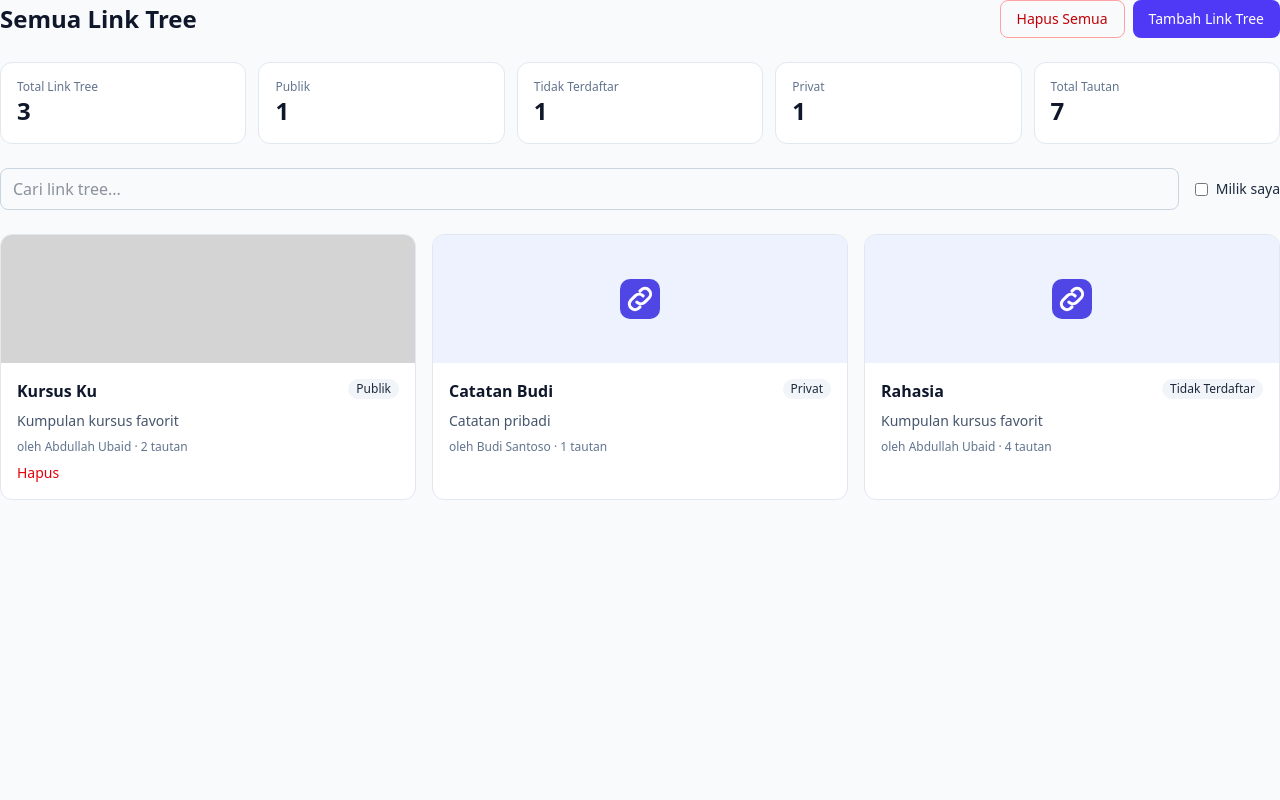
Test: HomePage › error tambah hanya tampil di modal, dan modal dapat ditutup
The image size is (1280, 800).
Expected: the link "Catatan Budi" is shown, [449,379,553,403]
Step 1. Click the button "Tambah Link Tree" → (1206, 19), box [1132,0,1279,38]
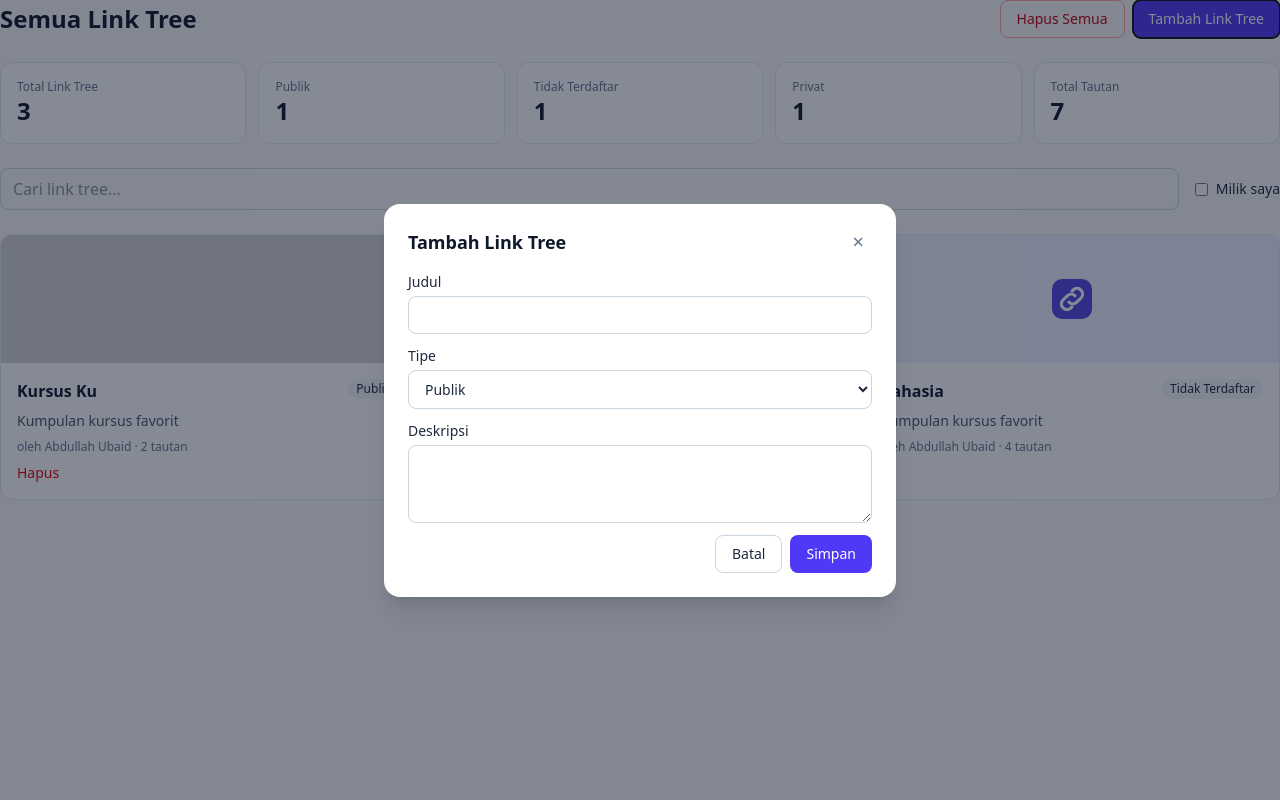
Step 2. Type "Baru" into the field labelled "Judul" → (640, 314), box [408,296,872,334]
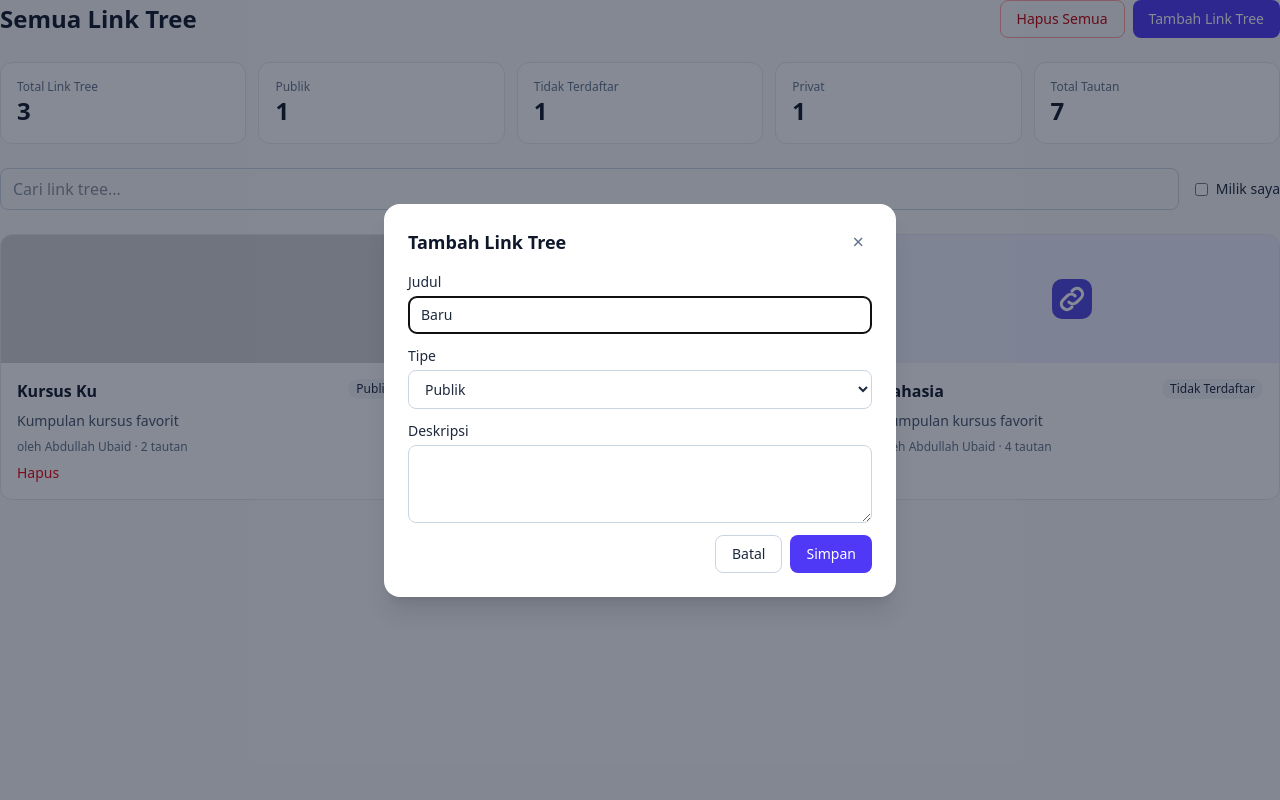
Step 3. Type "Deskripsi baru" into the text box labelled "Deskripsi" → (640, 484), box [408,444,872,522]
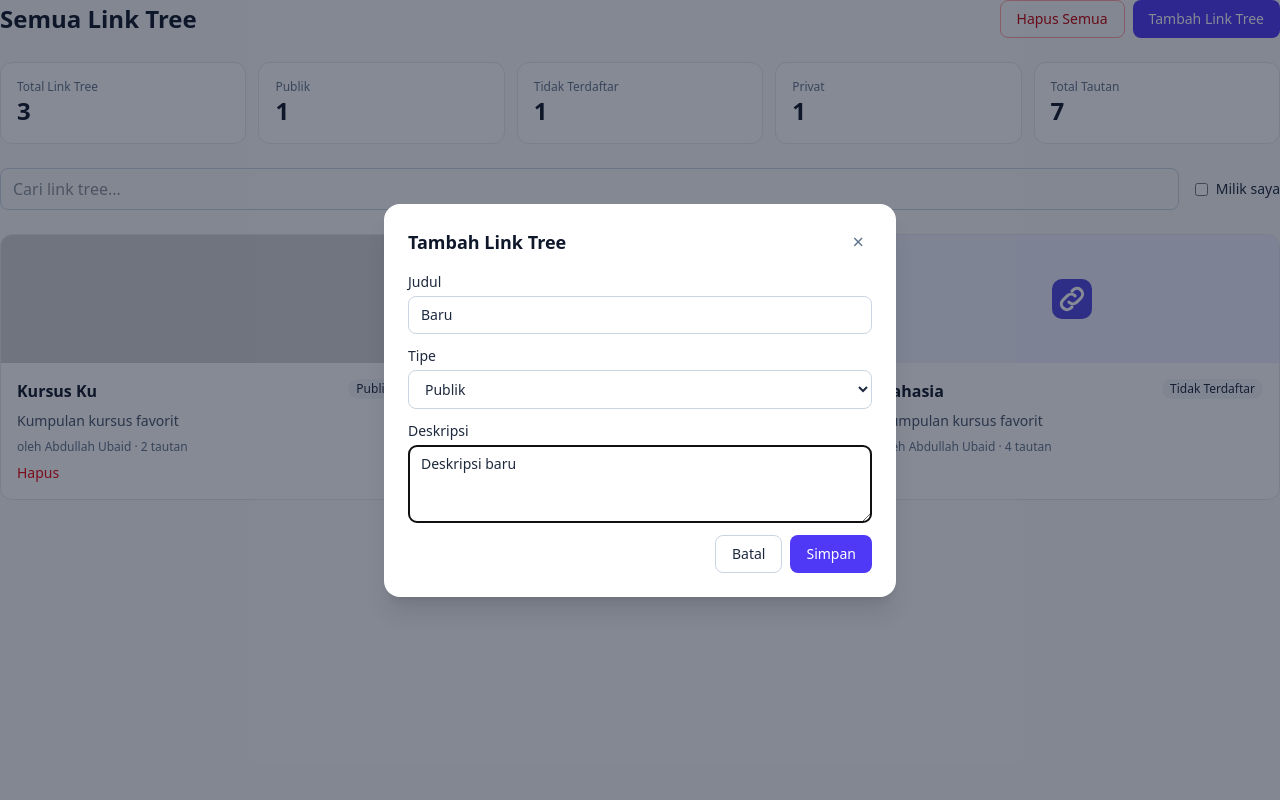
Step 4. Click the button "Simpan" → (831, 554), box [790,534,872,572]
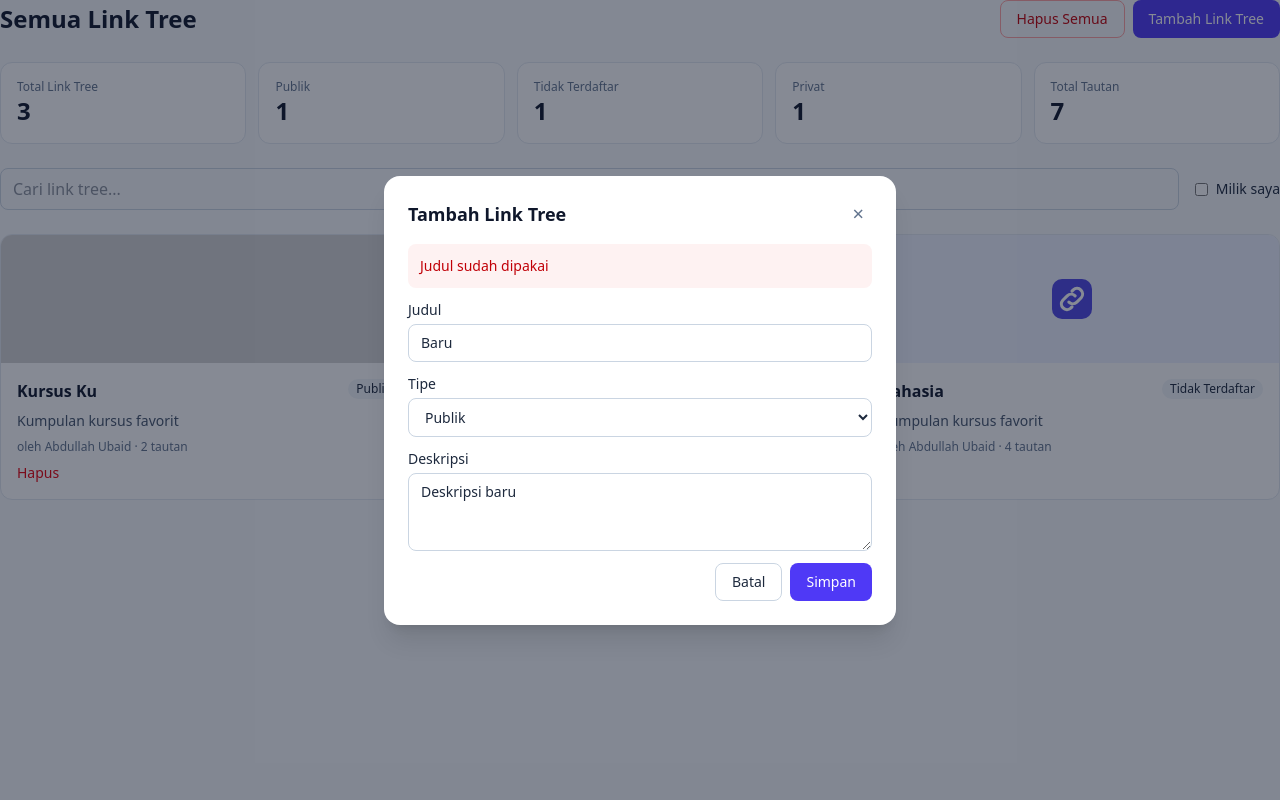
Expected: the number of messages is 1, [408,244,872,288]
Step 5. Click the button "Batal" → (749, 582), box [715,562,782,600]
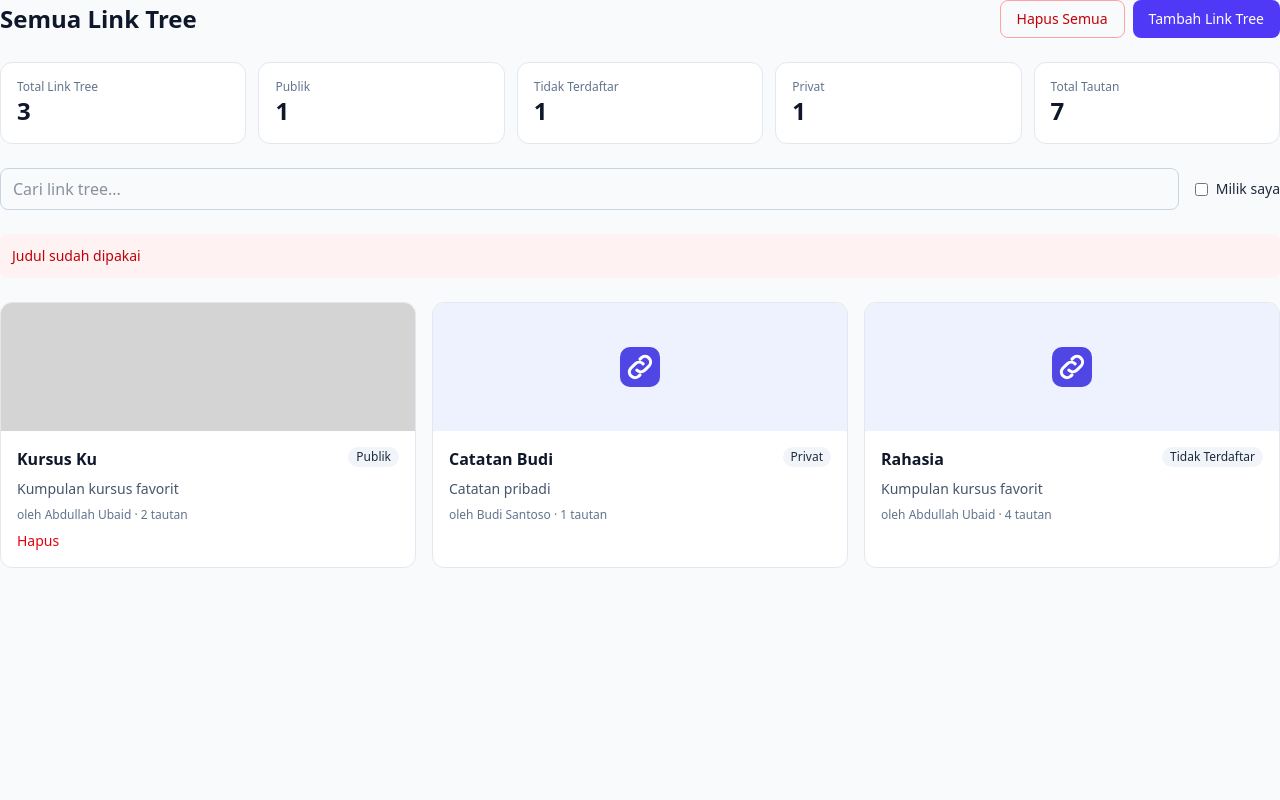
Expected: the dialog is gone
